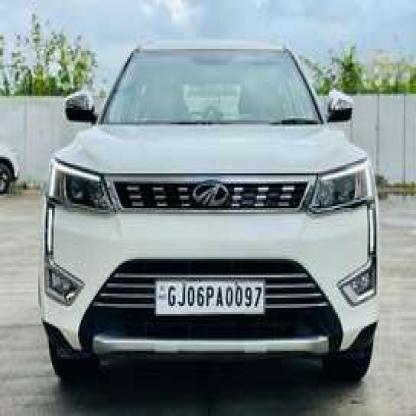license_plate: (153, 275, 263, 312)
